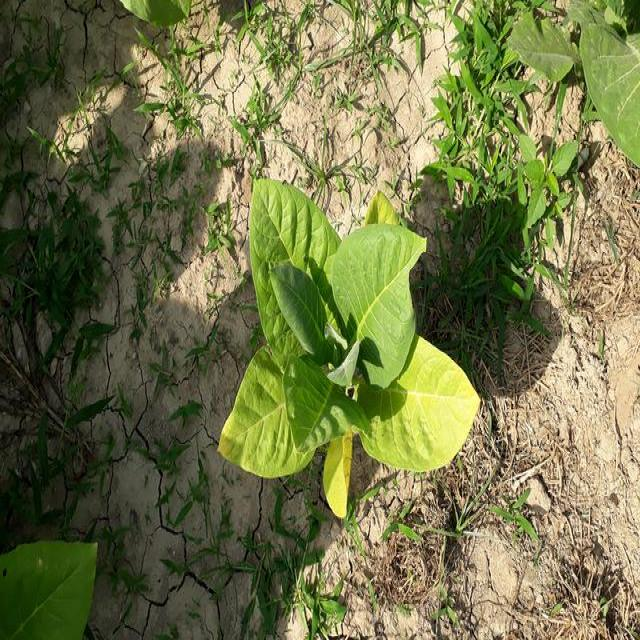crop: (220, 180, 480, 502), (517, 0, 640, 153), (0, 525, 107, 640)
